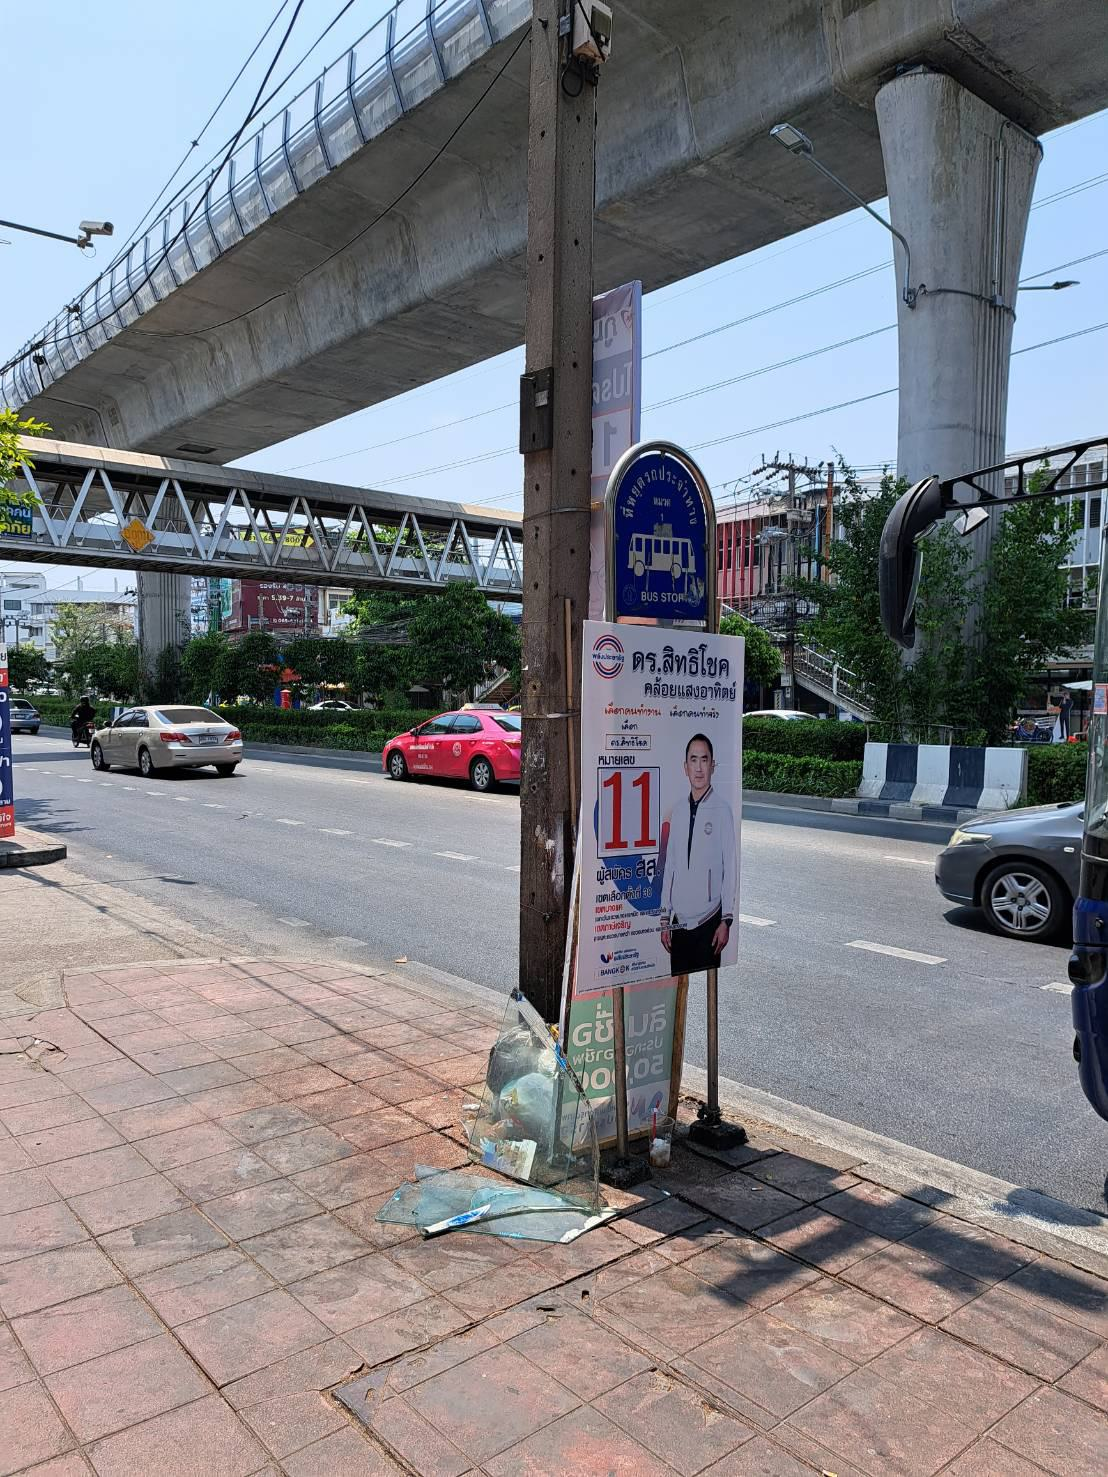Banner: (570, 624, 753, 999)
